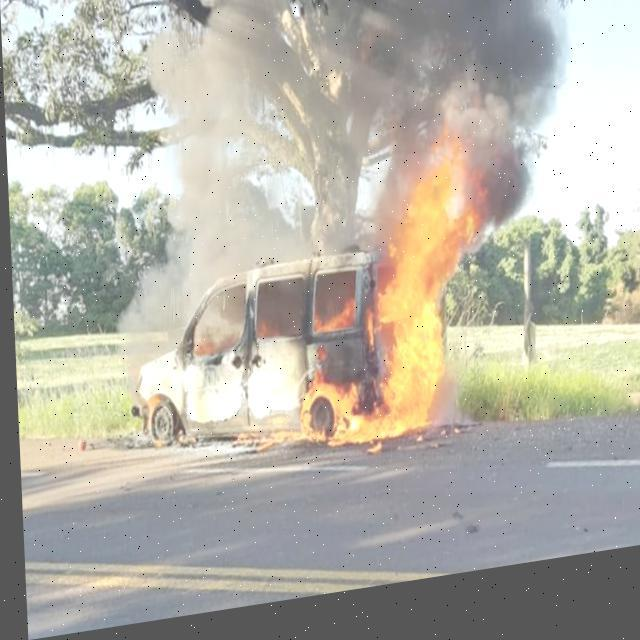Fire: (225, 137, 482, 471)
